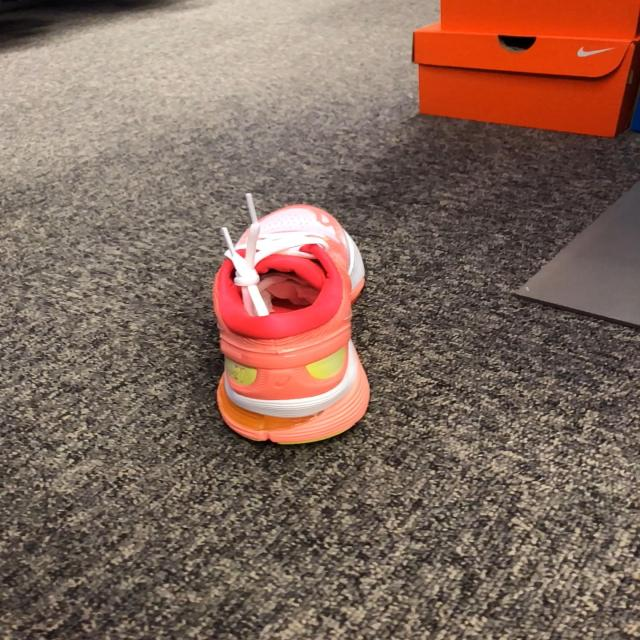shoe: (211, 204, 367, 447)
